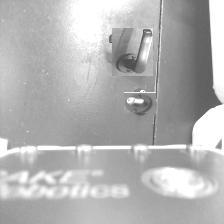Door Handle: (110, 30, 154, 75)
Lock: (127, 90, 154, 116)
